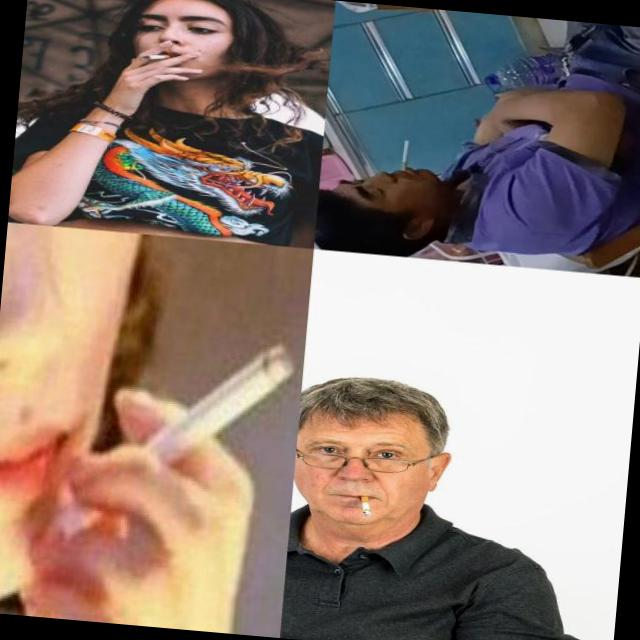smoke: (80, 328, 298, 544), (354, 491, 375, 520), (400, 140, 410, 170), (142, 52, 172, 62)
